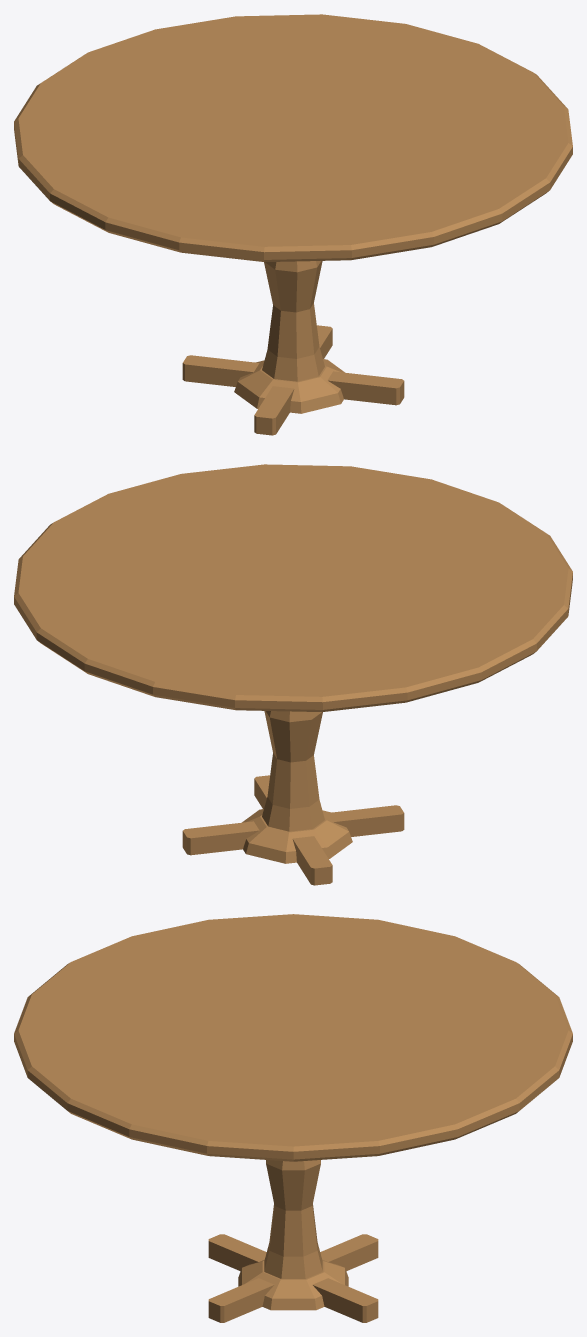
3 renders of one model, top to bottom at view 1: azimuth 30°, elevation 25°; view 2: azimuth 150°, elevation 25°; view 3: azimuth 270°, elevation 25°, orthographic.
Visible parts, largest first — view 1: table-top, pedestal, pedestal-base, foot-3, foot-1, foot-2; view 2: table-top, pedestal, pedestal-base, foot-0, foot-2, foot-1; view 3: table-top, pedestal, pedestal-base, foot-0, foot-3, foot-1, foot-2.
Part boxes in pixels (x1=…): table-top: x1=14, y1=14, x2=572, y2=262; pedestal: x1=262, y1=261, x2=324, y2=381; pedestal-base: x1=234, y1=359, x2=344, y2=413; foot-3: x1=327, y1=371, x2=404, y2=405; foot-1: x1=182, y1=355, x2=259, y2=386; foot-2: x1=254, y1=386, x2=294, y2=435; table-top: x1=14, y1=464, x2=572, y2=712; pedestal: x1=262, y1=711, x2=324, y2=831; pedestal-base: x1=242, y1=809, x2=352, y2=863; foot-0: x1=182, y1=821, x2=259, y2=855; foot-2: x1=327, y1=805, x2=404, y2=836; foot-1: x1=292, y1=836, x2=332, y2=885; table-top: x1=14, y1=914, x2=572, y2=1161; pedestal: x1=264, y1=1160, x2=322, y2=1278; pedestal-base: x1=238, y1=1260, x2=348, y2=1310; foot-0: x1=312, y1=1278, x2=378, y2=1322; foot-3: x1=208, y1=1278, x2=274, y2=1322; foot-1: x1=320, y1=1234, x2=378, y2=1271; foot-2: x1=208, y1=1234, x2=266, y2=1271.
Size of what is drawn, in the model's own units: 1.5 by 0.76 by 1.5.
